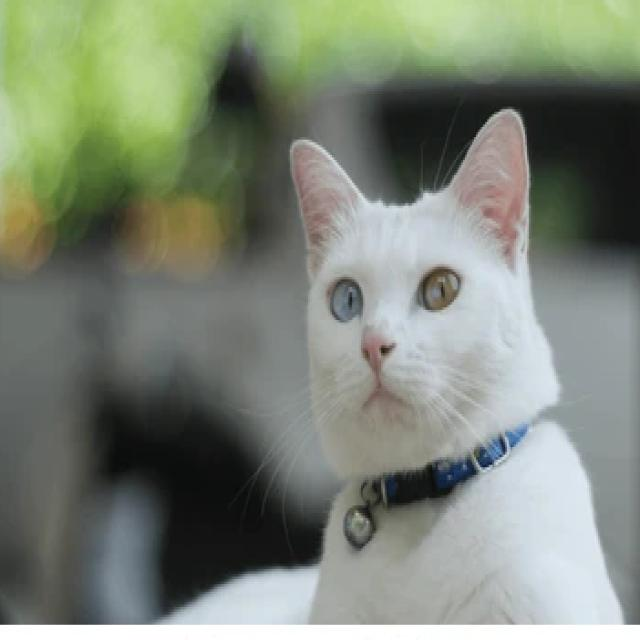Khao Manee: (286, 102, 627, 626)
